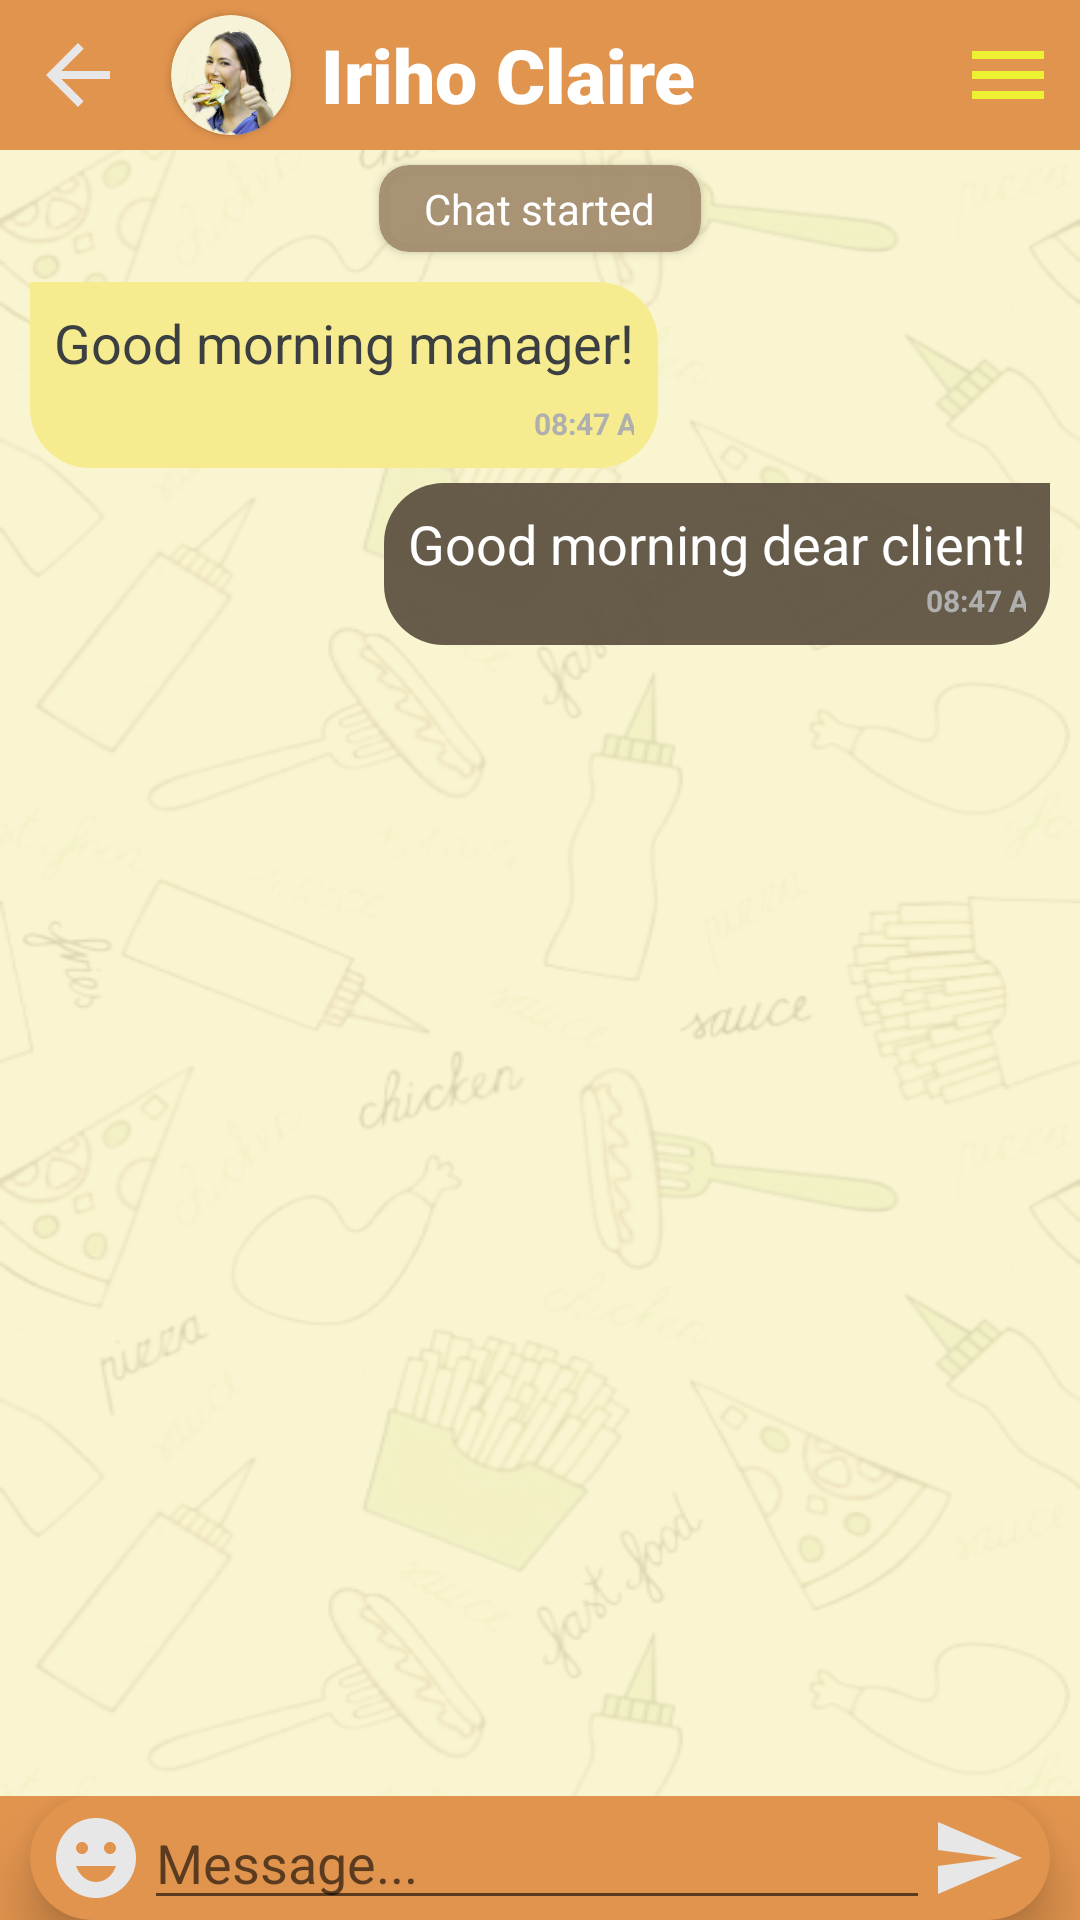

Point at icon controls on the screen. Image size 1080*1920, points as (x,y).
arrow back: (78,75)
emoji emotions: (96,1858)
horizontal lines: (1008,75)
send: (980,1858)
